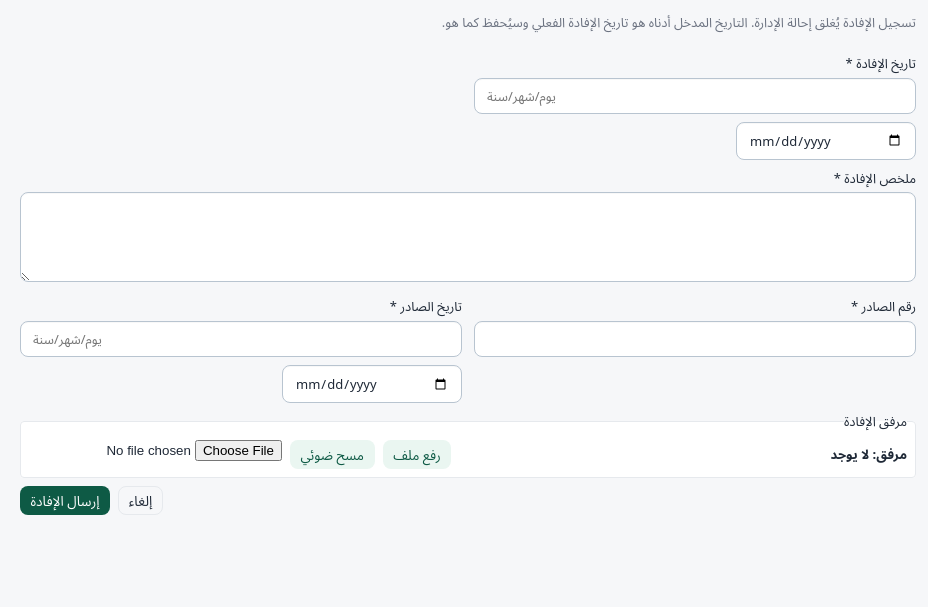
Test: CompleteResponseFormPanel › does not submit a response requiring outgoing details without an outgoing number
Type "16/01/1448" into the field labelled "تاريخ الإفادة *". click: (695, 96)
box: [474,78,916,114]
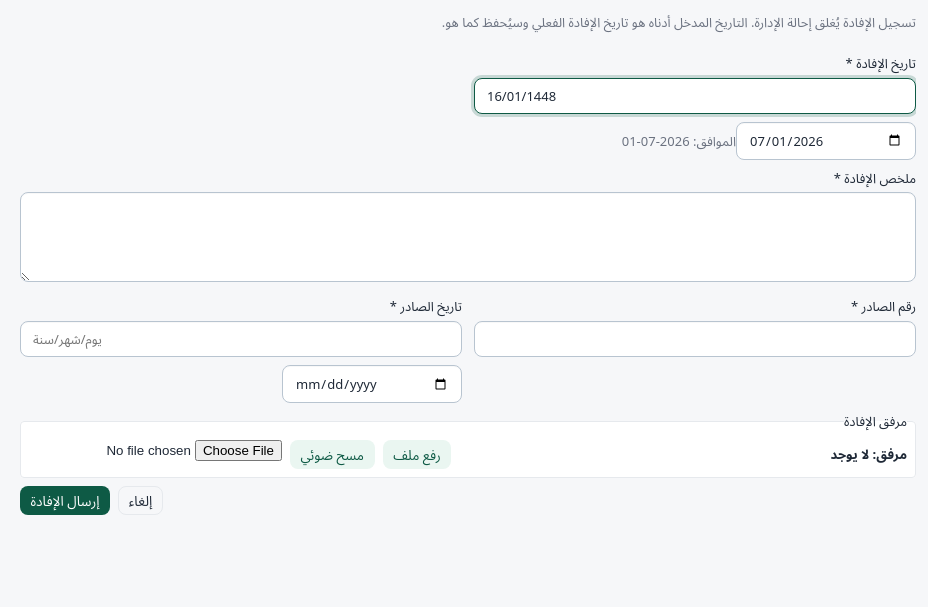
Type "ملخص الإفادة" into the text box labelled "ملخص الإفادة *". click: (468, 237)
box: [20,192,916,282]
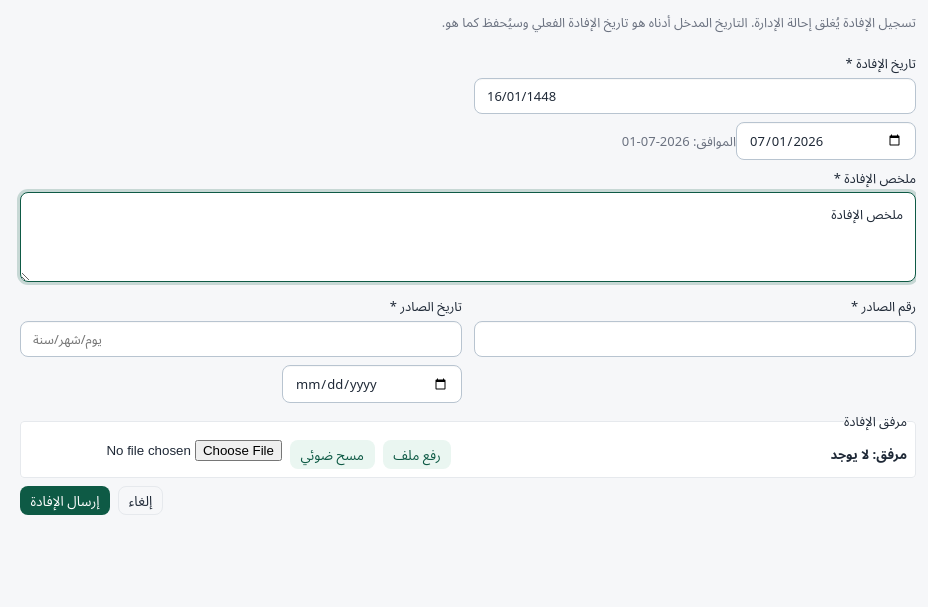
Type "16/01/1448" into the field labelled "تاريخ الصادر *". click: (241, 339)
box: [20,321,462,357]
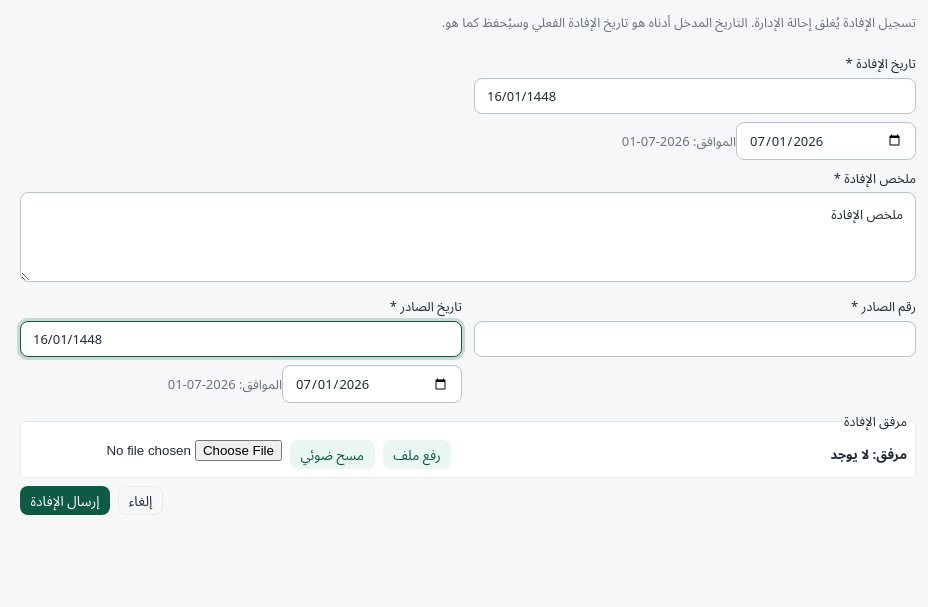
Click the button "إرسال الإفادة". click: (65, 500)
box: [20,486,110,515]
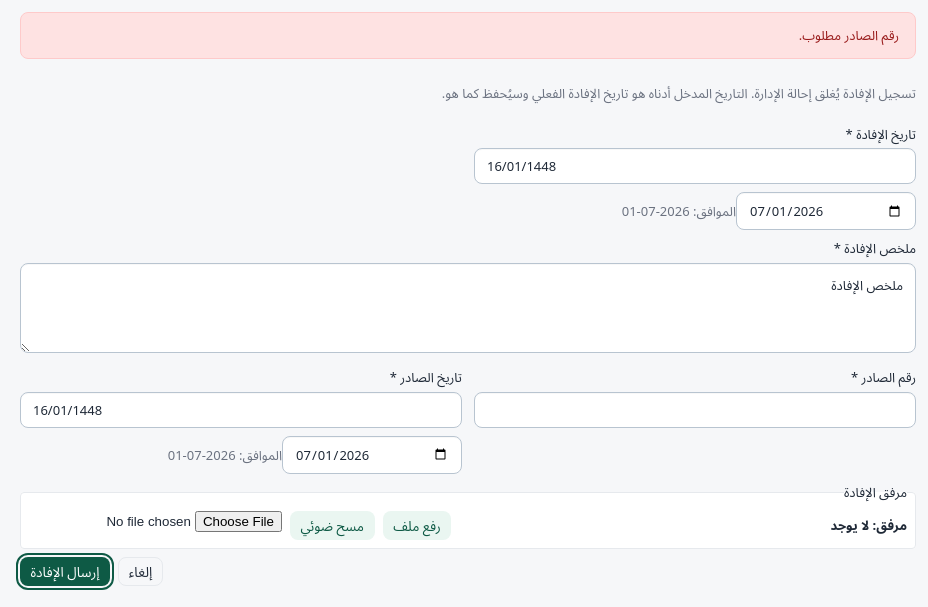
Now the text "رقم الصادر مطلوب." is shown, box [20,12,916,59]
